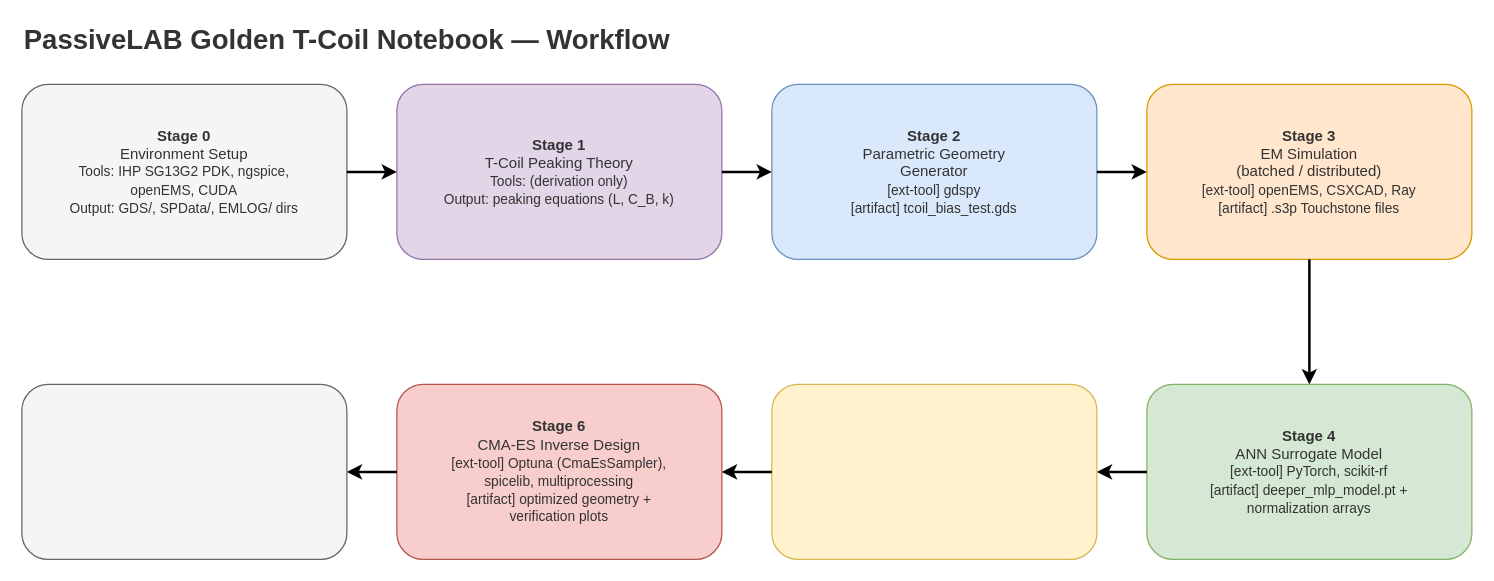
The diagram is 1494 pixels wide and 581 high, and some of its shapes have lost their labels. The shapes that lost their labels are listed below. From the top down, each one's box as (x1, y1, x2, y2) in pixels, then its label:
(21, 383, 347, 559): Stage 7 Reference / Conclusion Tools: (none) Output: report narrative
(771, 383, 1097, 559): Stage 5 SPICE Netlist Generation [ext-tool] ngspice [artifact] .cir netlists
